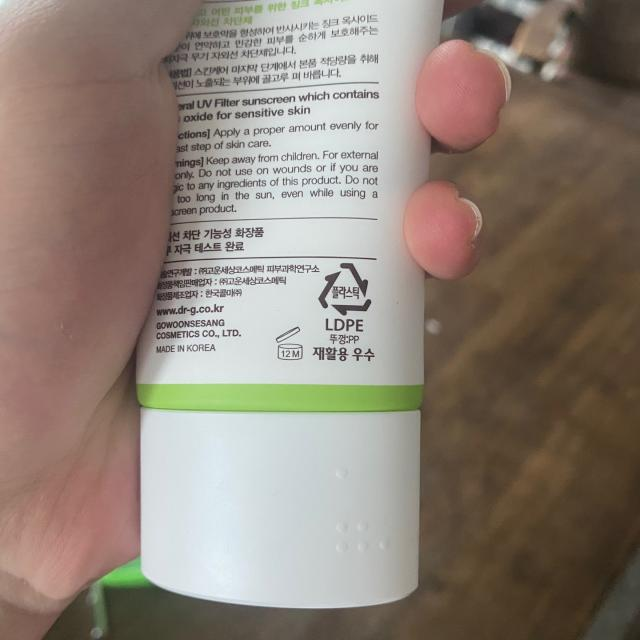Plastic: (317, 260, 373, 318)
